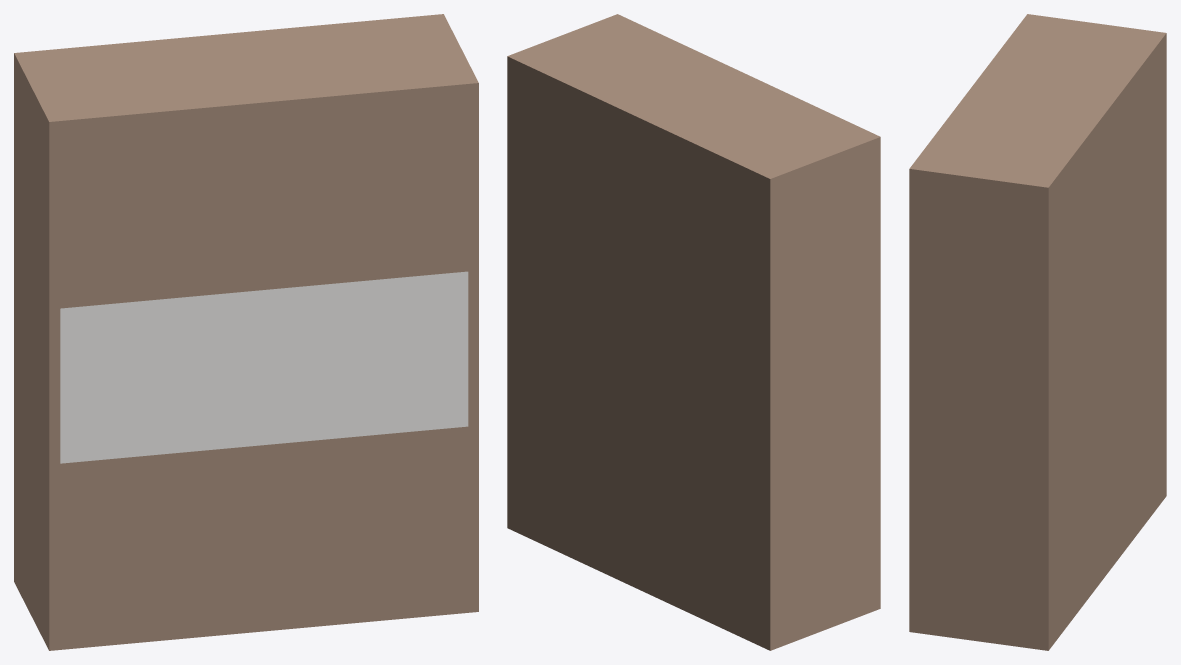
The model's file is Powder_4.fbx.
3 views of the same model, side by side, from view 1: azimuth 30°, elevation 25°; view 2: azimuth 150°, elevation 25°; view 3: azimuth 270°, elevation 25° (orthographic). The views are drawn at different scales.
Visible parts, largest first — view 1: Powder_4; view 2: Powder_4; view 3: Powder_4.
Part boxes in pixels (bbox=[...]): Powder_4: bbox=[14, 14, 478, 650]; Powder_4: bbox=[507, 14, 880, 650]; Powder_4: bbox=[909, 14, 1166, 650].
Size of the model in its own units: 34.06 by 21.31 by 42.34.
